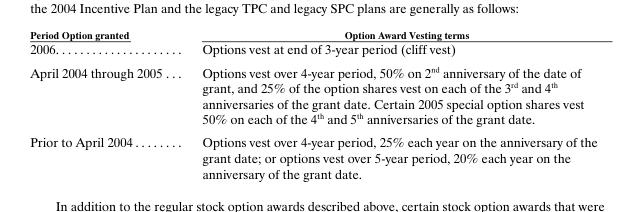table: (29, 28, 596, 180)
table column: (181, 28, 596, 180), (29, 28, 181, 180)
table column header: (29, 28, 596, 40)
table row: (29, 60, 596, 130), (29, 130, 596, 180), (29, 40, 596, 60), (29, 28, 596, 40)
